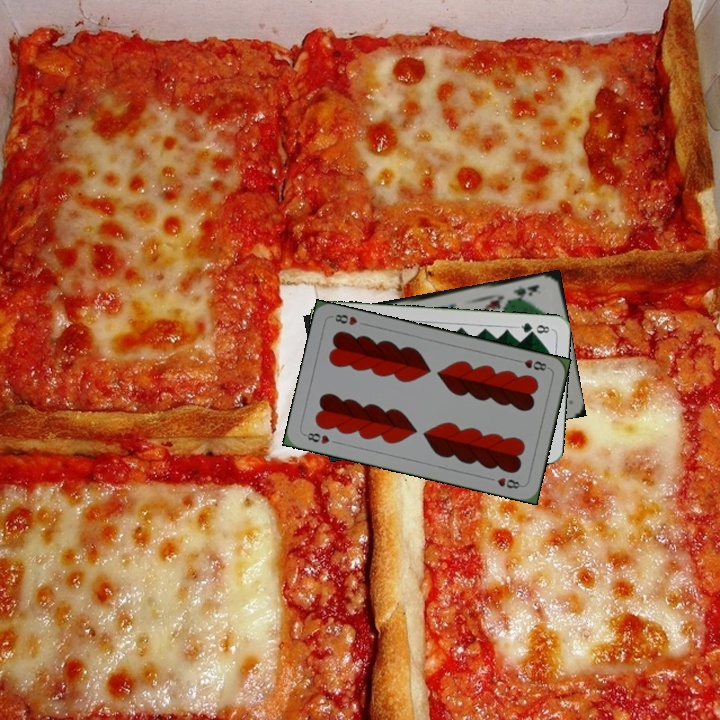G8: (514, 318, 554, 337)
GK: (507, 280, 542, 302)
H8: (511, 355, 552, 373), (300, 428, 332, 447)
